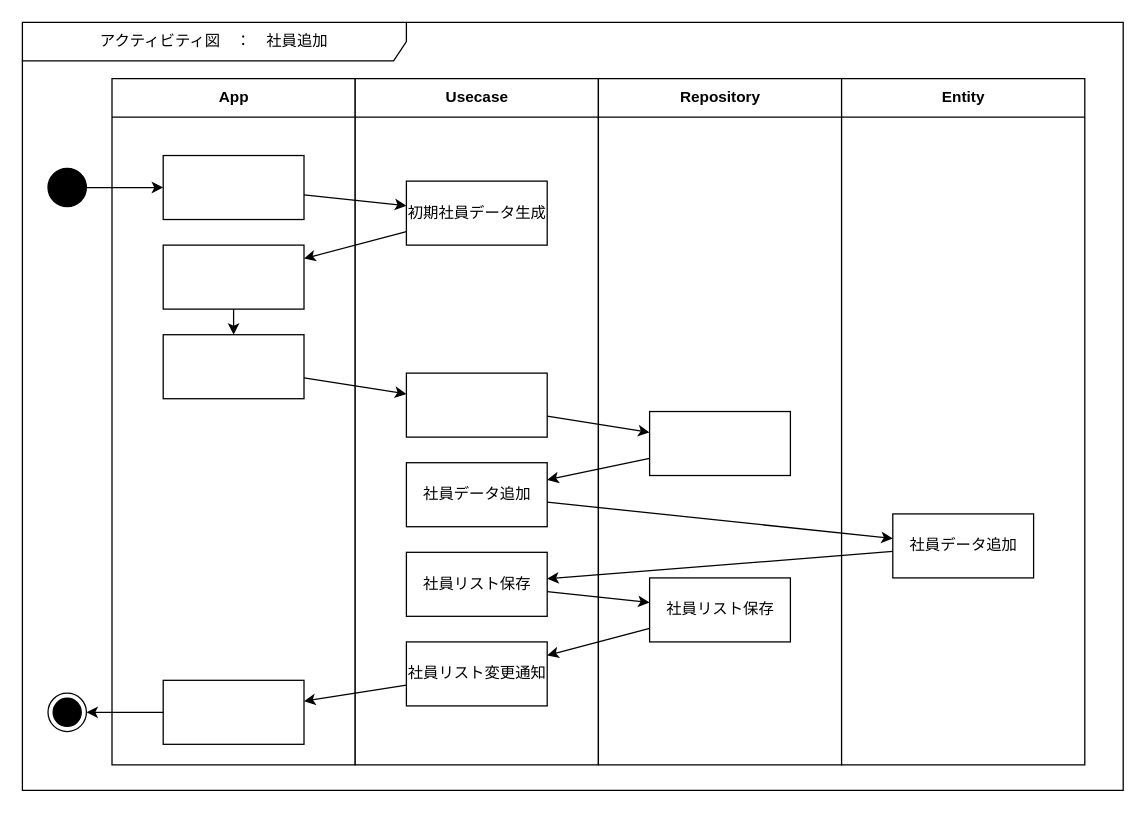
The diagram is 1146 pixels wide and 813 high, and some of its shapes have lost their labels. Each missing label, with the centre of its shape:
初期社員データ表示: pixel 233 276
社員データ入力: pixel 233 366
社員データ受付: pixel 476 404
社員リスト 表示更新: pixel 233 711
社員リスト提供: pixel 719 443
追加ボタン押下: pixel 233 187
